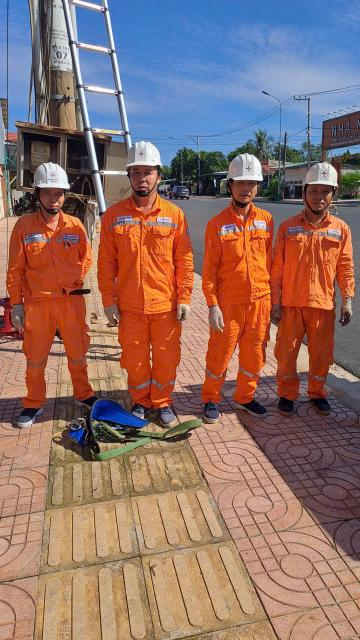gloves: (202, 297, 238, 333), (164, 297, 192, 333), (2, 301, 30, 337), (337, 285, 358, 330), (269, 298, 290, 333), (102, 296, 125, 327)
harness: (69, 402, 144, 462)
helmet: (290, 156, 350, 196), (111, 138, 172, 175), (219, 149, 273, 186), (22, 161, 80, 195)
shoes: (69, 384, 113, 418), (12, 399, 58, 428), (237, 391, 271, 421), (203, 395, 227, 426), (279, 388, 299, 422), (311, 388, 334, 416), (158, 402, 182, 427), (132, 392, 149, 418)
